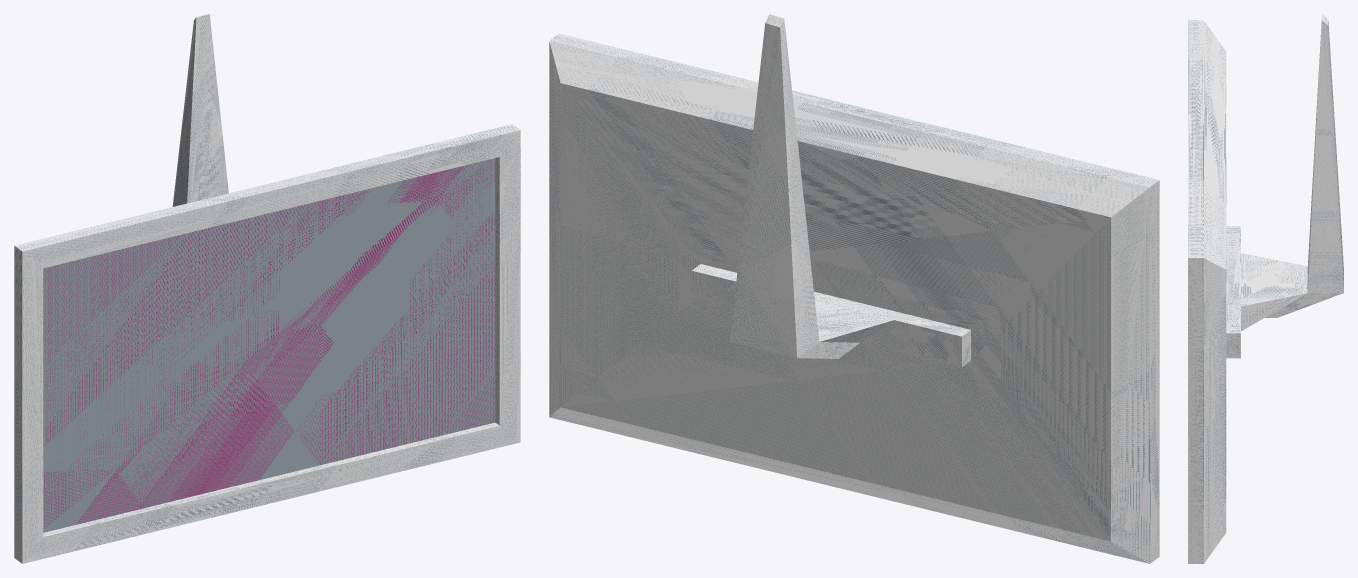
File: pantalla.fbx
3 renders of one model, left to right at view 1: azimuth 30°, elevation 25°; view 2: azimuth 150°, elevation 25°; view 3: azimuth 270°, elevation 25°, orthographic. The views are drawn at different scales.
Parts seen in each view (by area): view 1: Model; view 2: Model; view 3: Model.
Boxes of the visible parts, x1=… form: Model: x1=14, y1=14, x2=520, y2=563; Model: x1=549, y1=14, x2=1159, y2=563; Model: x1=1188, y1=14, x2=1343, y2=563.
Bounding box in the file's own units: 53.15 × 44.63 × 14.7.
